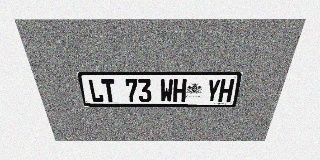3: (138, 79, 151, 102)
7: (124, 79, 139, 102)
H: (218, 79, 235, 102), (173, 79, 187, 102)
L: (87, 79, 104, 102)
T: (101, 79, 117, 102)
W: (160, 79, 173, 102)
Y: (205, 79, 221, 102)
